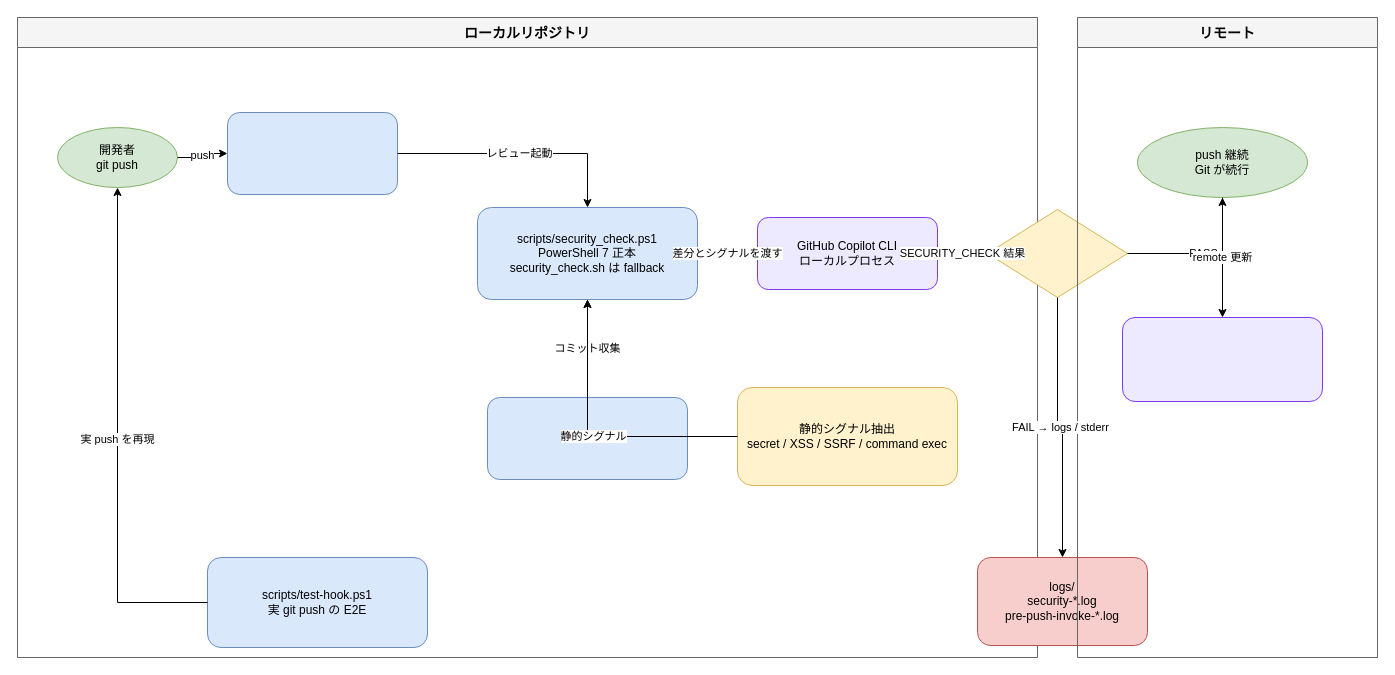
The diagram is 1395 pixels wide and 675 high, and some of its shapes have lost their labels. The box of each missing label's shape, as (x1, y1, x2, y2) in pixels:
hooks/pre-push ref を受け取る: (226, 112, 398, 194)
コミット収集 git rev-list / git show: (486, 396, 688, 480)
リモートリポジトリ GitHub / local bare: (1122, 316, 1322, 402)
判定 PASS / FAIL: (986, 208, 1128, 298)
